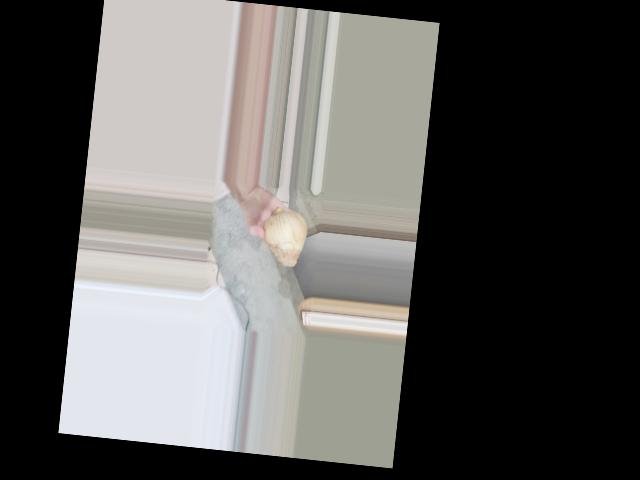onion: (257, 209, 305, 269)
